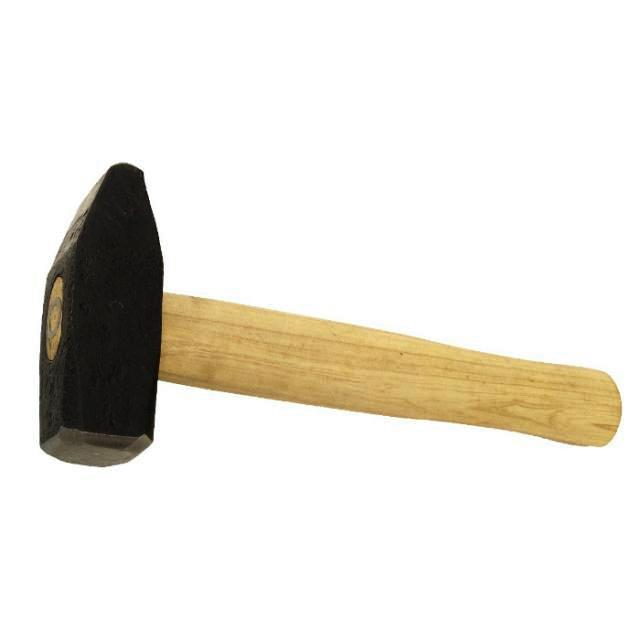hammer: (27, 156, 628, 472)
